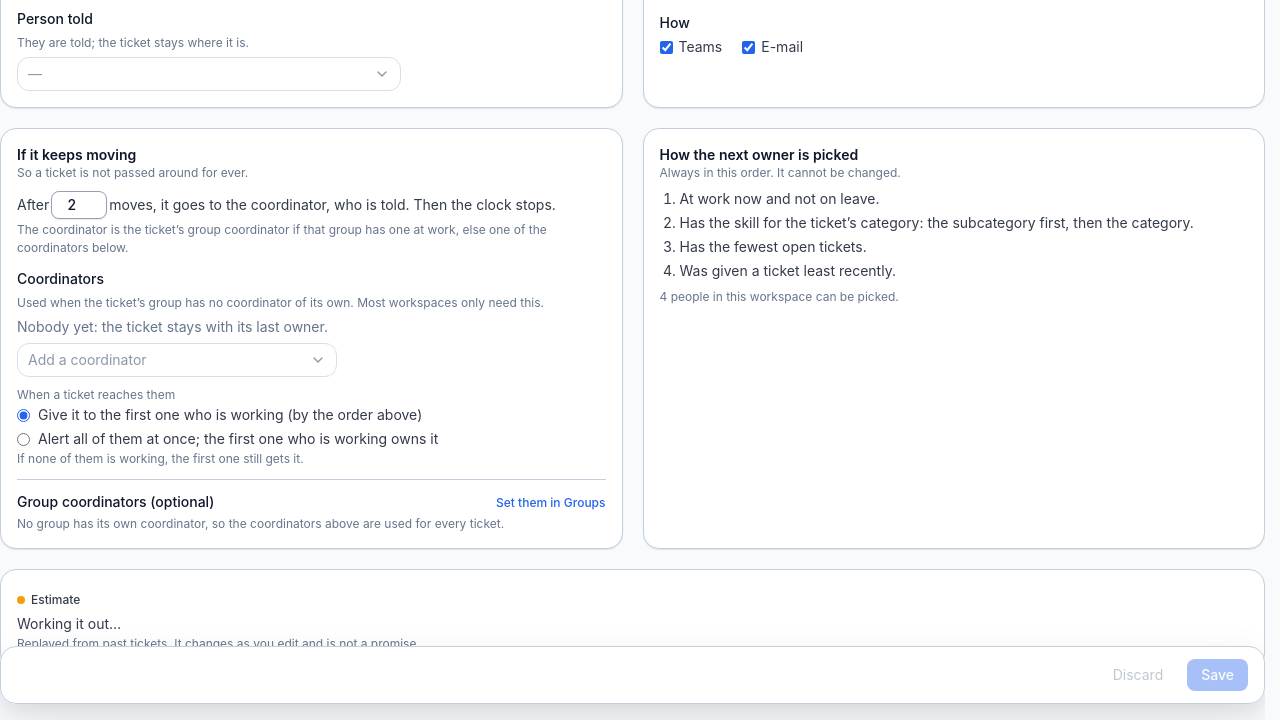
Test case: Urgent response: workspace coordinators › an unsaved list says so right under it, with its own Save
(page scrolled)
Click the dropdown labelled "Add a coordinator" at (87,360), box [17,343,337,377]
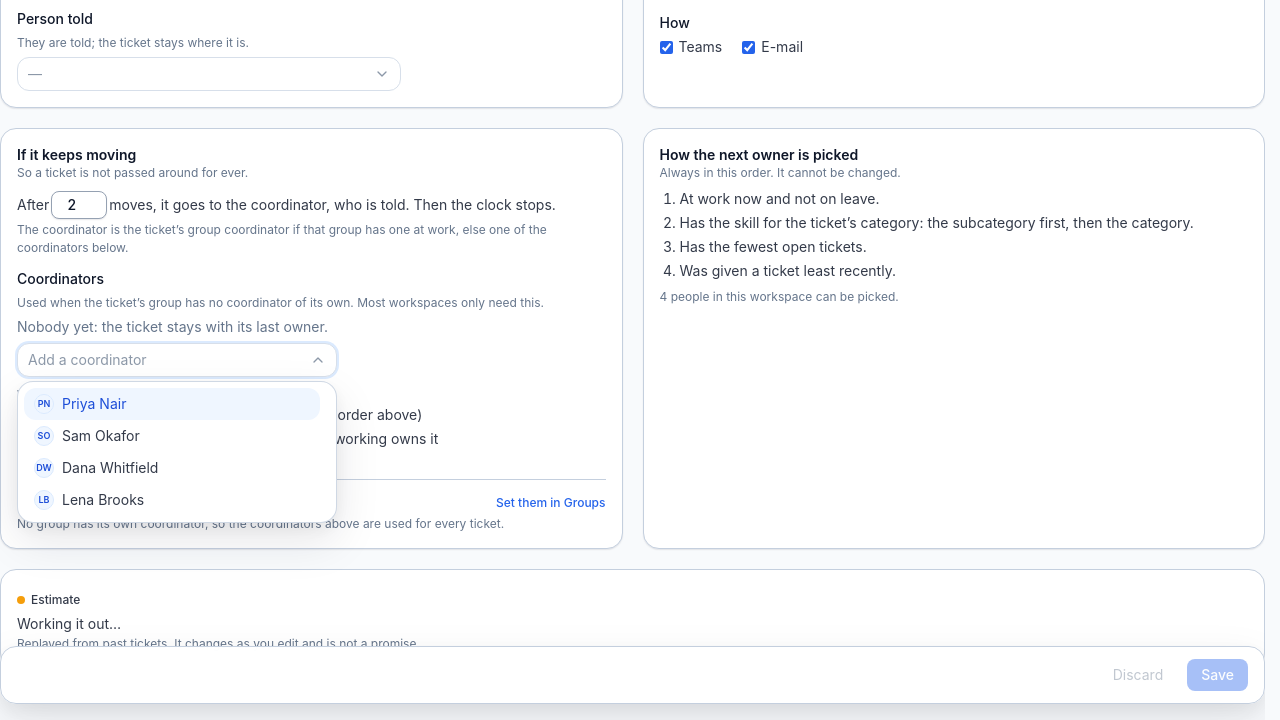
Click the option "PN Priya Nair" at (94,404), box [24,388,320,420]
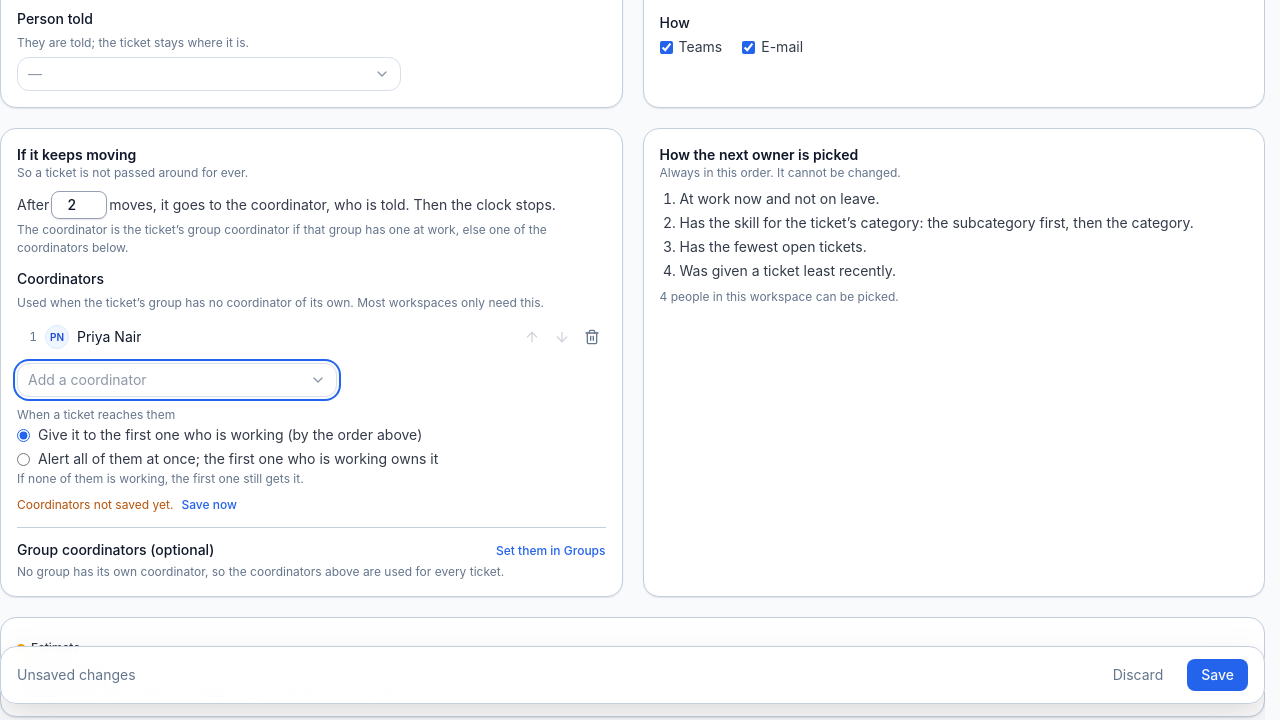
Expected: the message with test id "coordinators-unsaved" shows "Coordinators not saved yet.", [17,497,173,512]
Click the button "Save now" at (209,505), box [177,495,241,515]
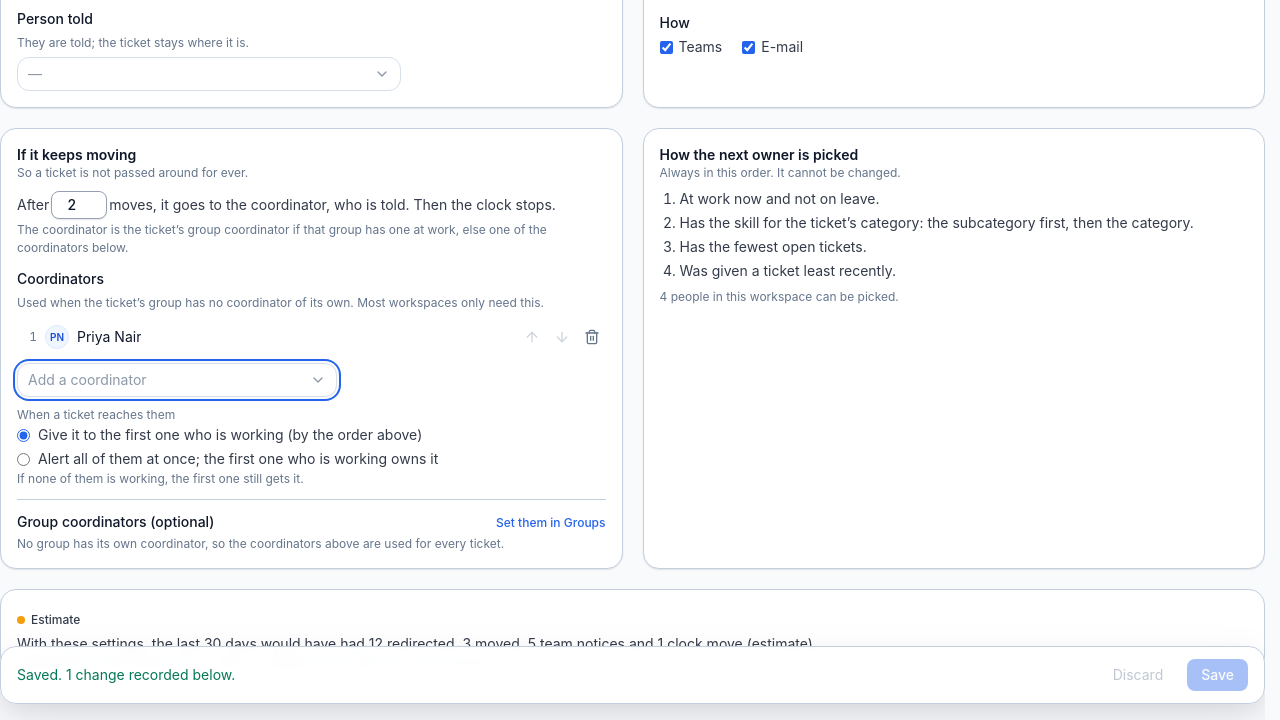
Expected: the message with test id "coordinators-unsaved" is gone
